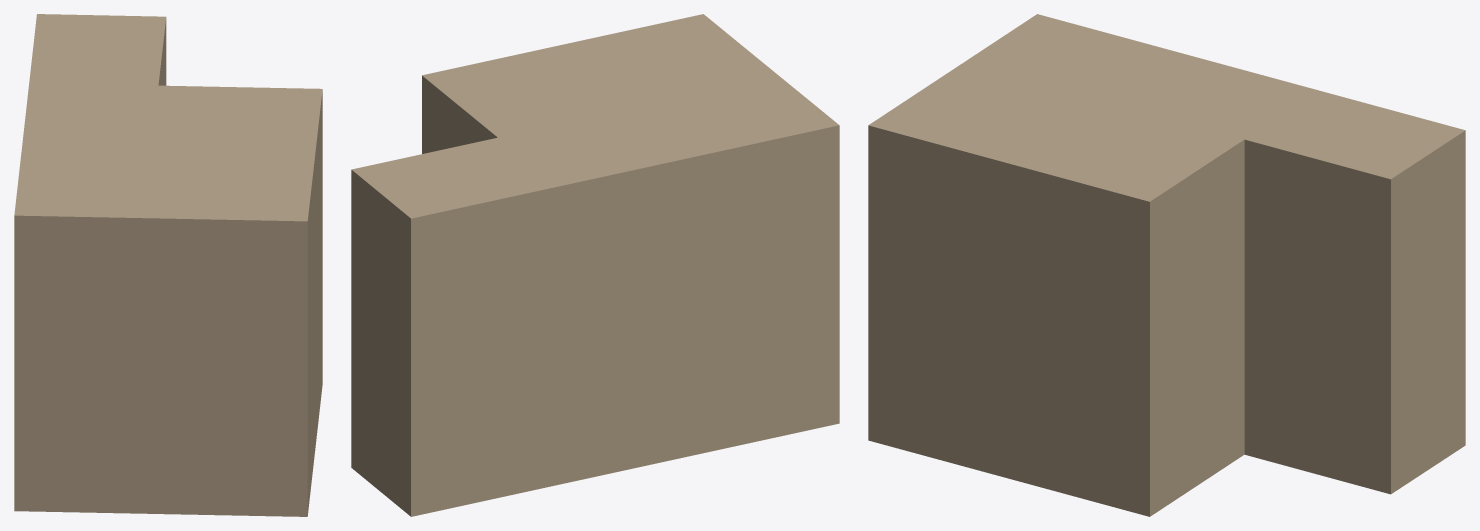
Rendered from bld_100469646.dae.
3 renders of one model, left to right at view 1: azimuth 30°, elevation 25°; view 2: azimuth 150°, elevation 25°; view 3: azimuth 270°, elevation 25°, orthographic. The views are drawn at different scales.
Parts seen in each view (by area): view 1: bld_100469646; view 2: bld_100469646; view 3: bld_100469646.
Boxes of the visible parts, x1,y1,x2,y2 form: bld_100469646: (14, 14, 322, 516); bld_100469646: (351, 14, 839, 516); bld_100469646: (868, 14, 1465, 516).
Bounding box in the file's own units: 10.23 × 13.75 × 8.
